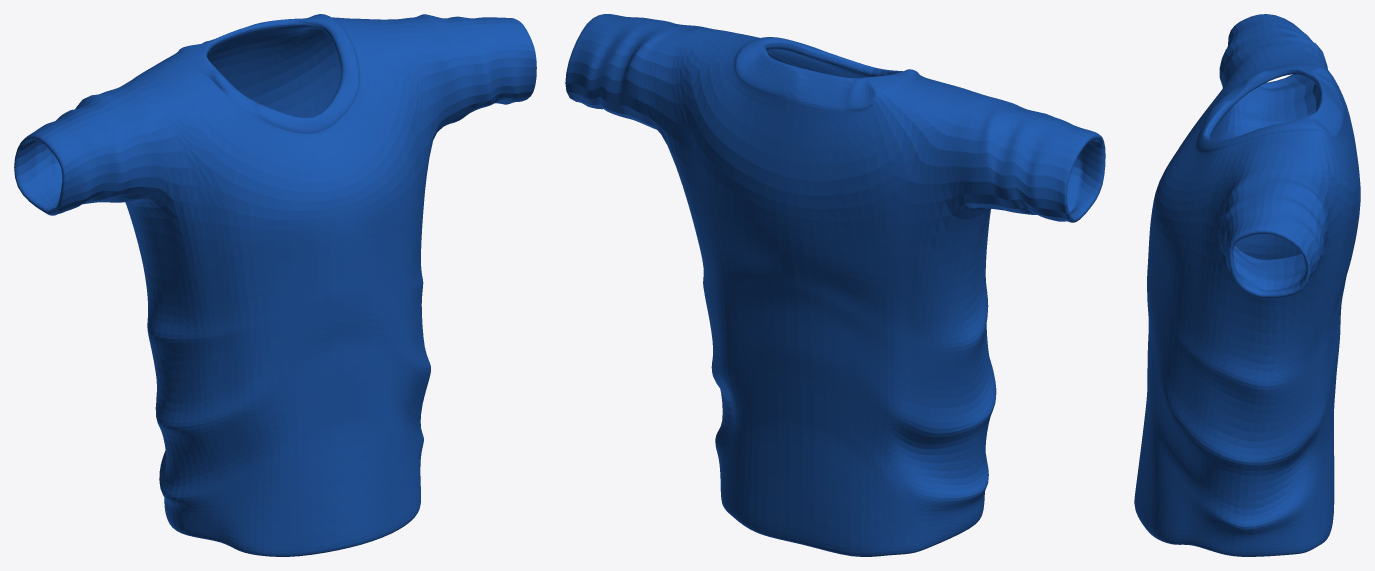
The model's file is T-shirt model.obj.
3 views of the same model, side by side, from view 1: azimuth 30°, elevation 25°; view 2: azimuth 150°, elevation 25°; view 3: azimuth 270°, elevation 25° (orthographic). The views are drawn at different scales.
Parts seen in each view (by area): view 1: Box001; view 2: Box001; view 3: Box001.
Boxes of the visible parts, left/top/right/bottom form: Box001: left=14, top=14, right=536, bottom=556; Box001: left=565, top=14, right=1105, bottom=556; Box001: left=1134, top=14, right=1360, bottom=556.
Size of the model in its own units: 40.59 by 36.6 by 17.71.
